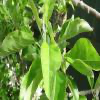Apple leaf: (63, 39, 100, 77), (39, 40, 62, 100), (57, 16, 95, 48), (0, 31, 38, 62), (19, 58, 44, 99)
